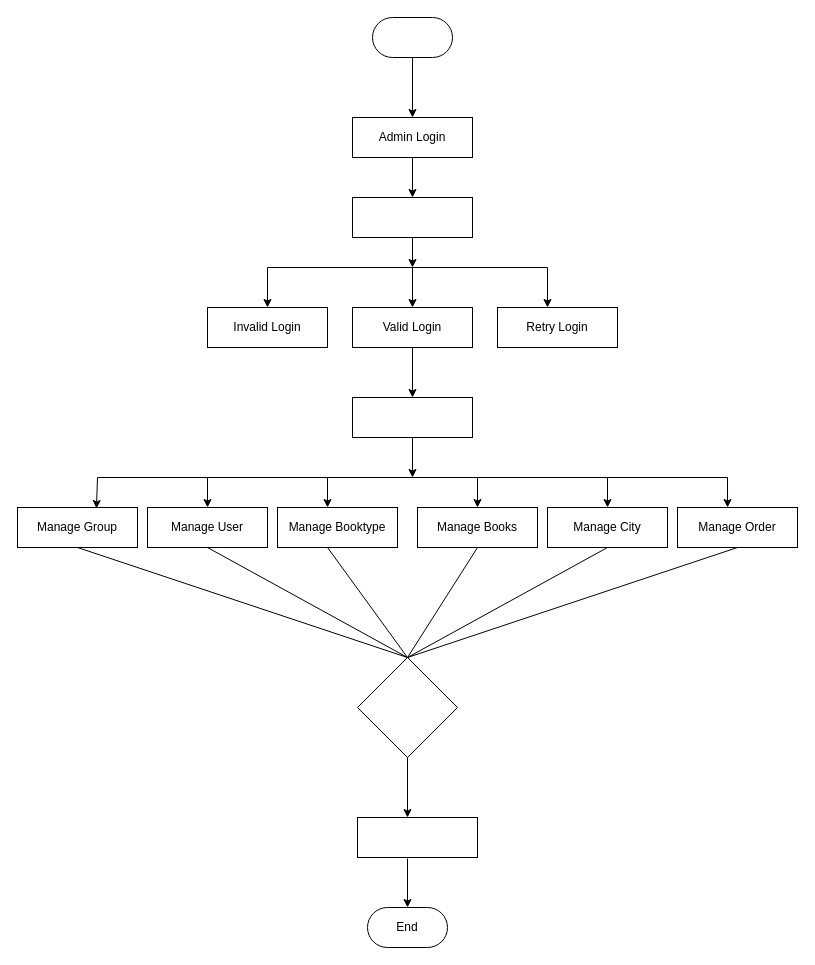
Some shapes in this 815 by 965 pixel diagram are drawn without their labels. Each missing label, with the centre of its shape:
"Action Perform" belongs at (417,837).
"Admin Dashboard" belongs at (412,417).
"Manage" belongs at (407,707).
"start" belongs at (412,37).
"Valid Credentials" belongs at (412,217).
